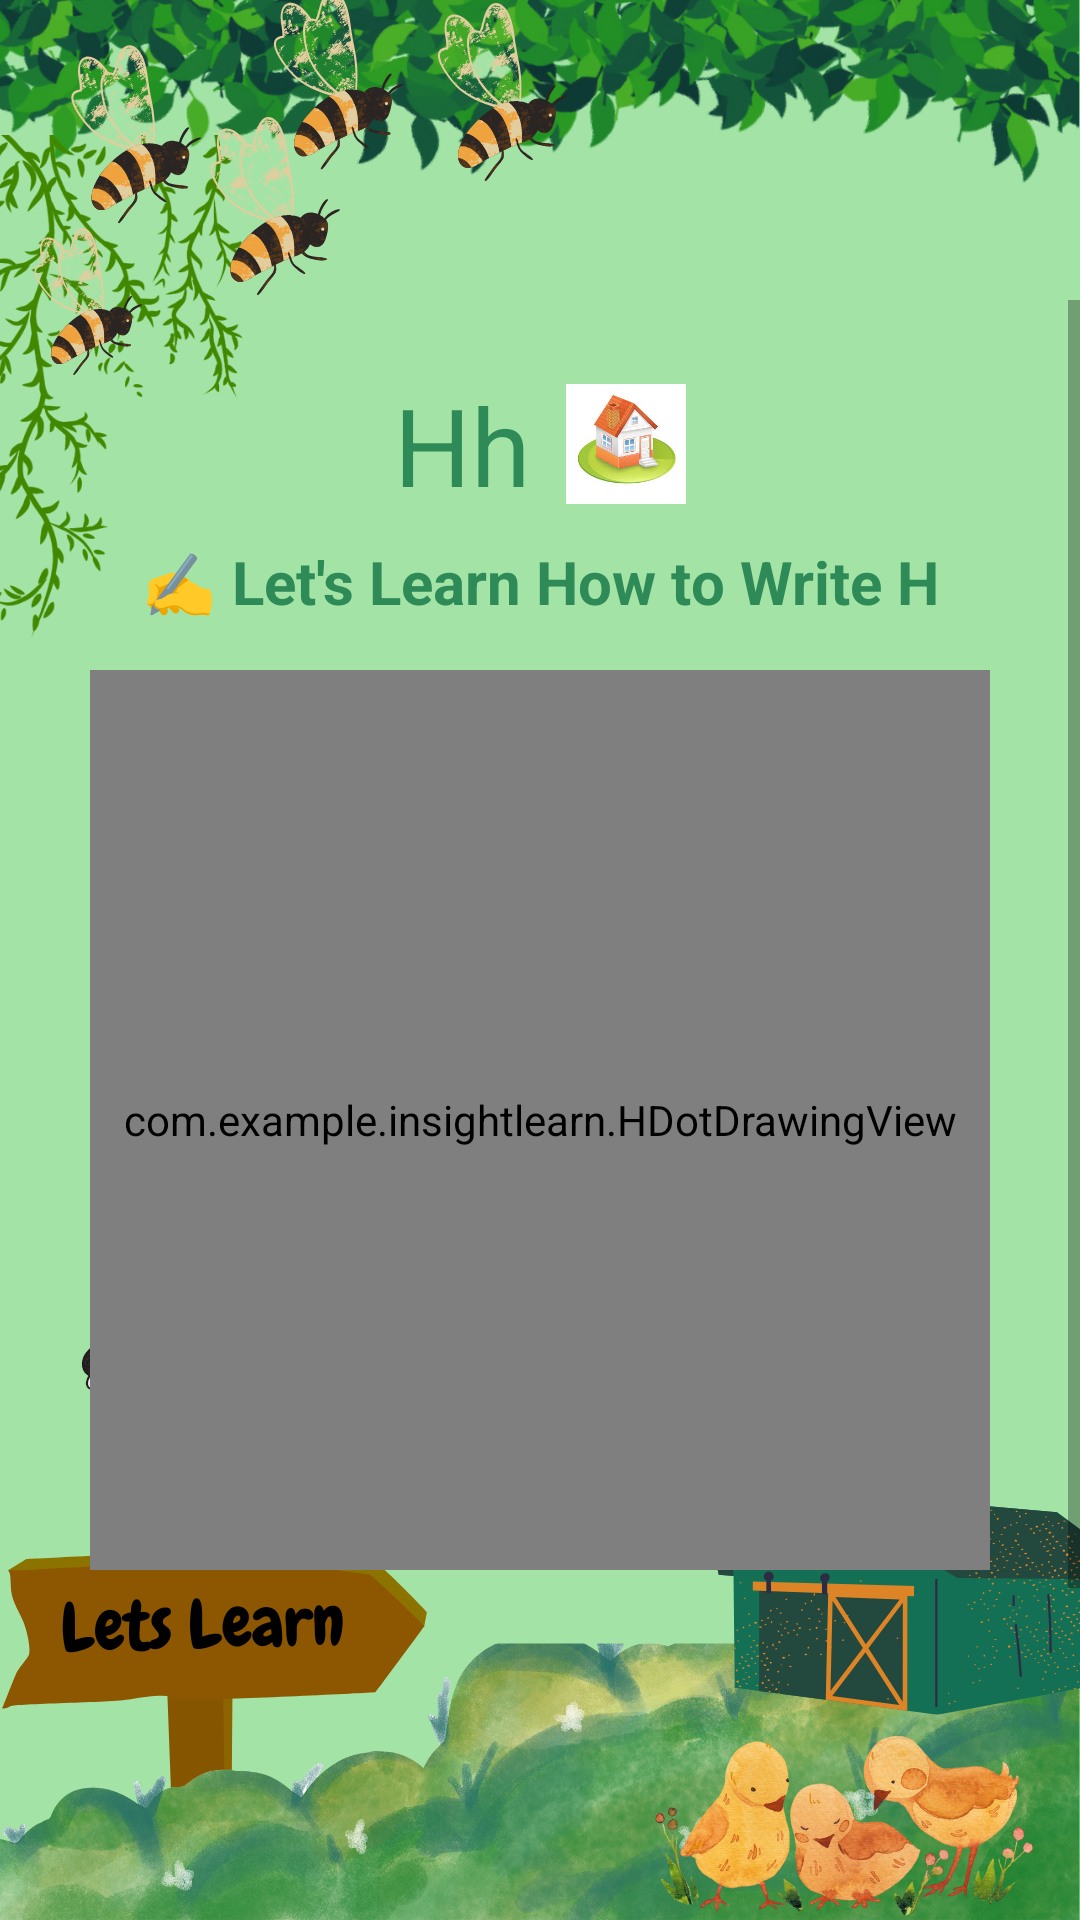

Named icons in this screenshot (1080x1920) and their centers, point (x, y):
House: point (626, 444)
